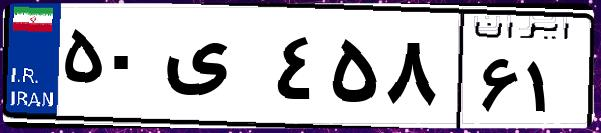0: (110, 28, 158, 98)
1: (525, 38, 570, 115)
4: (270, 28, 330, 110)
5: (330, 28, 385, 110), (57, 26, 110, 100)
6: (475, 38, 525, 113)
8: (385, 28, 445, 110)
ی: (158, 20, 270, 120)
